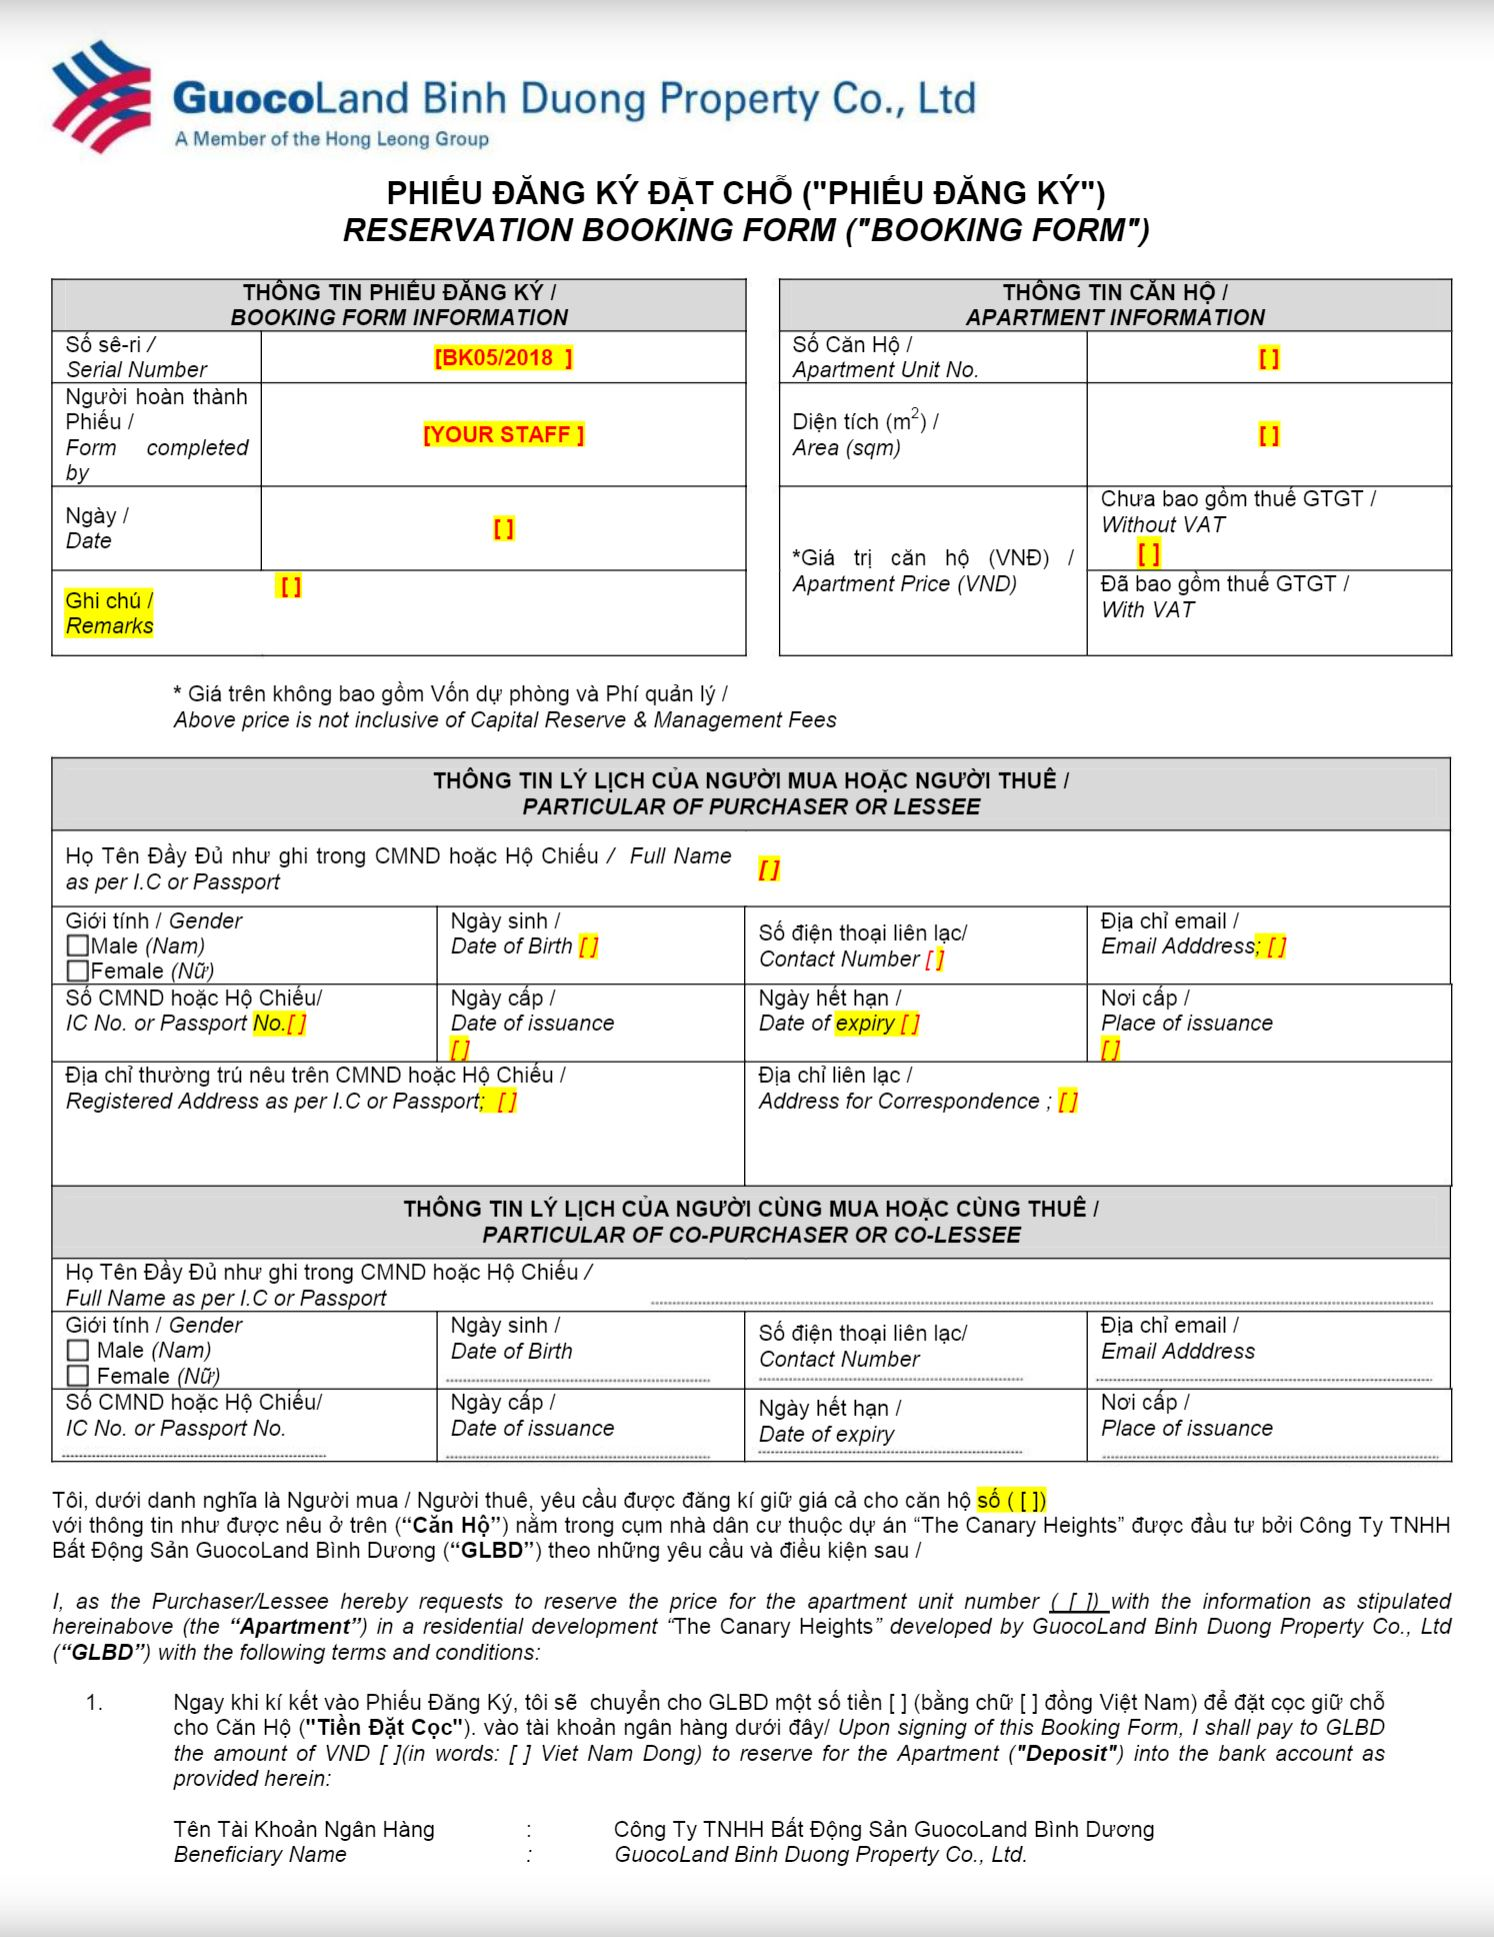box: (63, 929, 93, 961), (63, 1336, 93, 1364), (63, 1362, 93, 1391), (63, 958, 91, 986)
